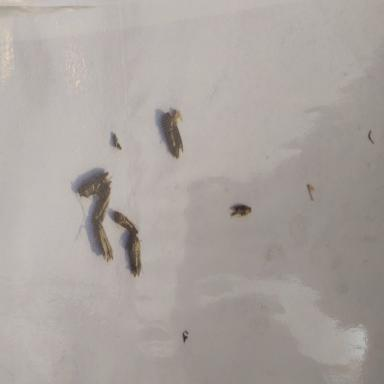pbw: (76, 168, 115, 219), (160, 110, 187, 162), (92, 216, 116, 264), (90, 183, 114, 227), (126, 233, 146, 280), (112, 210, 142, 236), (228, 202, 254, 222), (111, 131, 123, 152)
